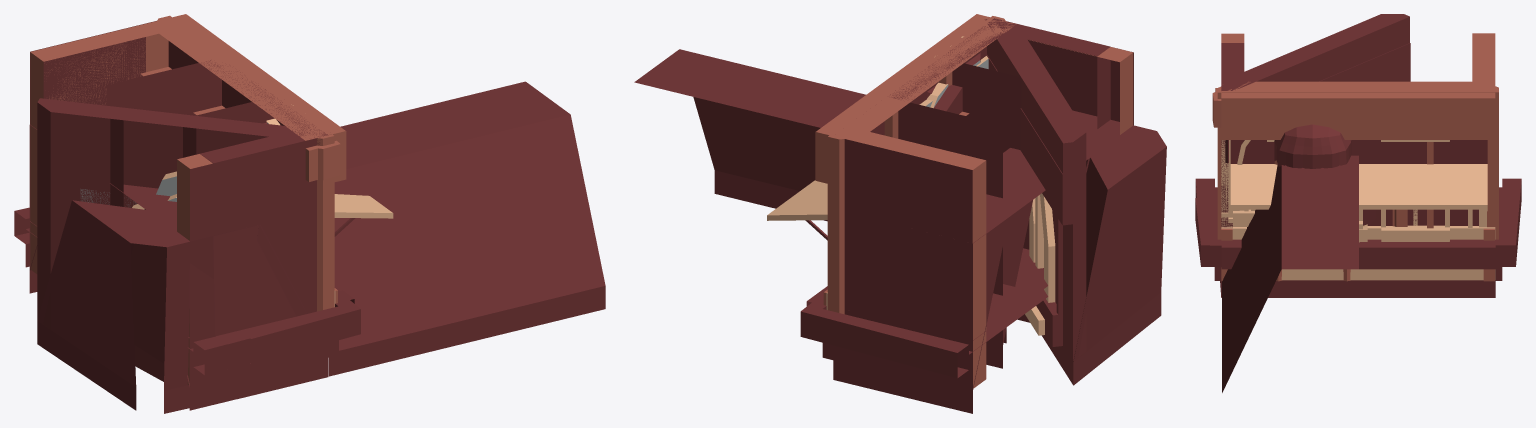
Rendered from TOS_Modulaire_v6.fbx.
3 views of the same model, side by side, from view 1: azimuth 30°, elevation 25°; view 2: azimuth 150°, elevation 25°; view 3: azimuth 270°, elevation 25° (orthographic). The views are drawn at different scales.
Parts seen in each view (by area): view 1: B_Side_Roof_Bumped.005, B_Side_Roof_Bumped.008, B_Side_wall_plain.015, S_Side_Roof_Bumped.006, M_Side_Roof_Bumped.004, M_Side_Roof_Bumped.005, B_Angle_Right_Wall_Plain.003, B_Angle_Left_BumpedWindows_SideAndTopBeam.001, B_Angle_Left_wall_SideBeam.001, B_Angle_Left_BumpedWindows_SideBeam.001, B_Side_wall_plain.016, S_Angle_Left_roof_flat.001 (+28 smaller); view 2: B_Side_Roof_Bumped.005, B_Side_Roof_Bumped.008, B_Angle_Right_windows_TopAndsideBeam.001, B_Side_Roof_Bumped_Windows.001, B_Angle_Right_roof_Flat.001, B_Angle_Right_Wall_Plain.003, B_Side_wall_plain.016, B_Side_wall_plain.013, B_Side_wall_plain.015, B_Angle_Right_roof_Bumped.001, B_Side_wall_plain.017, M_Angle_Right_Door_Plain.001 (+22 smaller); view 3: B_Side_Roof_Bumped.005, B_Side_wall_plain.014, B_Angle_Left_wall_Plain.003, B_Angle_Right_Wall_Plain.003, B_Angle_Left_Roof_Bumped.001, B_Side_Roof_flat.001, B_Angle_Left_BumpedWindows_Plain.001, M_Side_Wall_Plain.012, B_Side_wall_plain.017, B_Angle_Right_roof_Flat.001, M_Side_Wall_Plain.009, B_Side_wall_plain.016 (+20 smaller).
Part boxes in pixels (x1,y1,x2,y2): B_Side_Roof_Bumped.005: (328, 81, 605, 376); B_Side_Roof_Bumped.008: (37, 200, 256, 413); B_Side_wall_plain.015: (37, 102, 304, 328); S_Side_Roof_Bumped.006: (334, 135, 449, 349); M_Side_Roof_Bumped.004: (335, 114, 512, 372); M_Side_Roof_Bumped.005: (131, 209, 327, 391); B_Angle_Right_Wall_Plain.003: (30, 14, 345, 273); B_Angle_Left_BumpedWindows_SideAndTopBeam.001: (190, 138, 322, 385); B_Angle_Left_wall_SideBeam.001: (190, 138, 322, 386); B_Angle_Left_BumpedWindows_SideBeam.001: (190, 138, 322, 366); B_Side_wall_plain.016: (37, 98, 307, 327); S_Angle_Left_roof_flat.001: (239, 300, 360, 378); B_Side_Roof_Bumped.005: (634, 49, 865, 221); B_Side_Roof_Bumped.008: (1042, 120, 1166, 385); B_Angle_Right_windows_TopAndsideBeam.001: (827, 17, 992, 316); B_Side_Roof_Bumped_Windows.001: (854, 149, 1101, 390); B_Angle_Right_roof_Flat.001: (800, 289, 1048, 393); B_Angle_Right_Wall_Plain.003: (815, 14, 1015, 388); B_Side_wall_plain.016: (985, 19, 1086, 360); B_Side_wall_plain.013: (816, 14, 1015, 141); B_Side_wall_plain.015: (998, 21, 1086, 360); B_Angle_Right_roof_Bumped.001: (833, 146, 1105, 413); B_Side_wall_plain.017: (986, 22, 1085, 354); M_Angle_Right_Door_Plain.001: (898, 99, 1002, 197); B_Side_Roof_Bumped.005: (1222, 155, 1358, 392); B_Side_wall_plain.014: (1230, 140, 1487, 227); B_Angle_Left_wall_Plain.003: (1221, 33, 1495, 139); B_Angle_Right_Wall_Plain.003: (1221, 33, 1495, 98); B_Angle_Left_Roof_Bumped.001: (1221, 281, 1495, 297); B_Side_Roof_flat.001: (1221, 246, 1495, 269); B_Angle_Left_BumpedWindows_Plain.001: (1232, 140, 1495, 280); M_Side_Wall_Plain.012: (1274, 124, 1351, 281); B_Side_wall_plain.017: (1221, 14, 1410, 163); B_Angle_Right_roof_Flat.001: (1221, 178, 1521, 280); M_Side_Wall_Plain.009: (1237, 33, 1364, 88); B_Side_wall_plain.016: (1221, 14, 1409, 90).
Size of the model in its own units: 2003 by 1001 by 1430.
